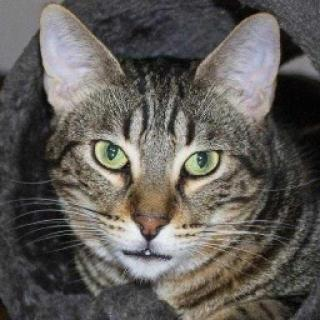cat: (35, 4, 290, 291)
nose: (129, 196, 174, 242)
